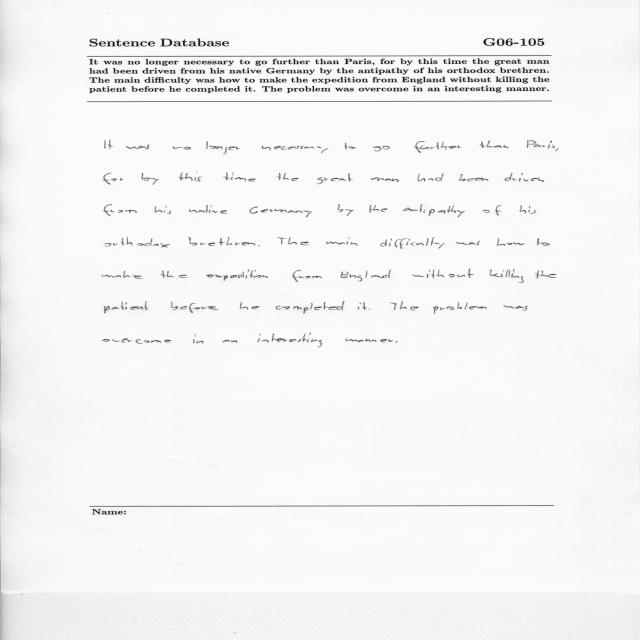word: (257, 333, 322, 347), (276, 301, 345, 314), (403, 205, 465, 218), (380, 237, 445, 249), (206, 269, 268, 281), (250, 207, 312, 218), (104, 237, 170, 247), (433, 302, 487, 314), (341, 270, 392, 282), (189, 237, 256, 246), (414, 141, 462, 153), (412, 269, 474, 278), (105, 302, 149, 314), (171, 302, 218, 313), (490, 269, 524, 283), (262, 146, 329, 153), (206, 141, 240, 154), (102, 338, 171, 344), (103, 204, 137, 216), (316, 173, 353, 184), (505, 173, 545, 182), (292, 270, 322, 282), (189, 205, 227, 214), (223, 172, 256, 182), (102, 271, 143, 279), (326, 237, 358, 246), (277, 238, 309, 246), (527, 140, 555, 149), (103, 173, 124, 185), (390, 302, 418, 311), (480, 141, 509, 149), (496, 238, 525, 246), (179, 172, 202, 182), (141, 173, 159, 185), (417, 174, 444, 182), (482, 205, 501, 216), (459, 174, 488, 181), (535, 270, 557, 279), (345, 339, 393, 343), (161, 271, 188, 278), (338, 204, 353, 216), (277, 173, 299, 181), (519, 205, 536, 214), (369, 205, 388, 213), (240, 302, 259, 310), (155, 205, 171, 214), (371, 177, 399, 182), (503, 306, 528, 311), (126, 145, 150, 150), (193, 334, 204, 344), (372, 146, 390, 152), (537, 238, 550, 246), (456, 241, 480, 245), (344, 143, 356, 150), (357, 302, 367, 310), (173, 146, 192, 150), (105, 140, 113, 149), (223, 340, 238, 343), (555, 148, 559, 151), (258, 245, 260, 246), (369, 309, 371, 310), (396, 341, 397, 343)
